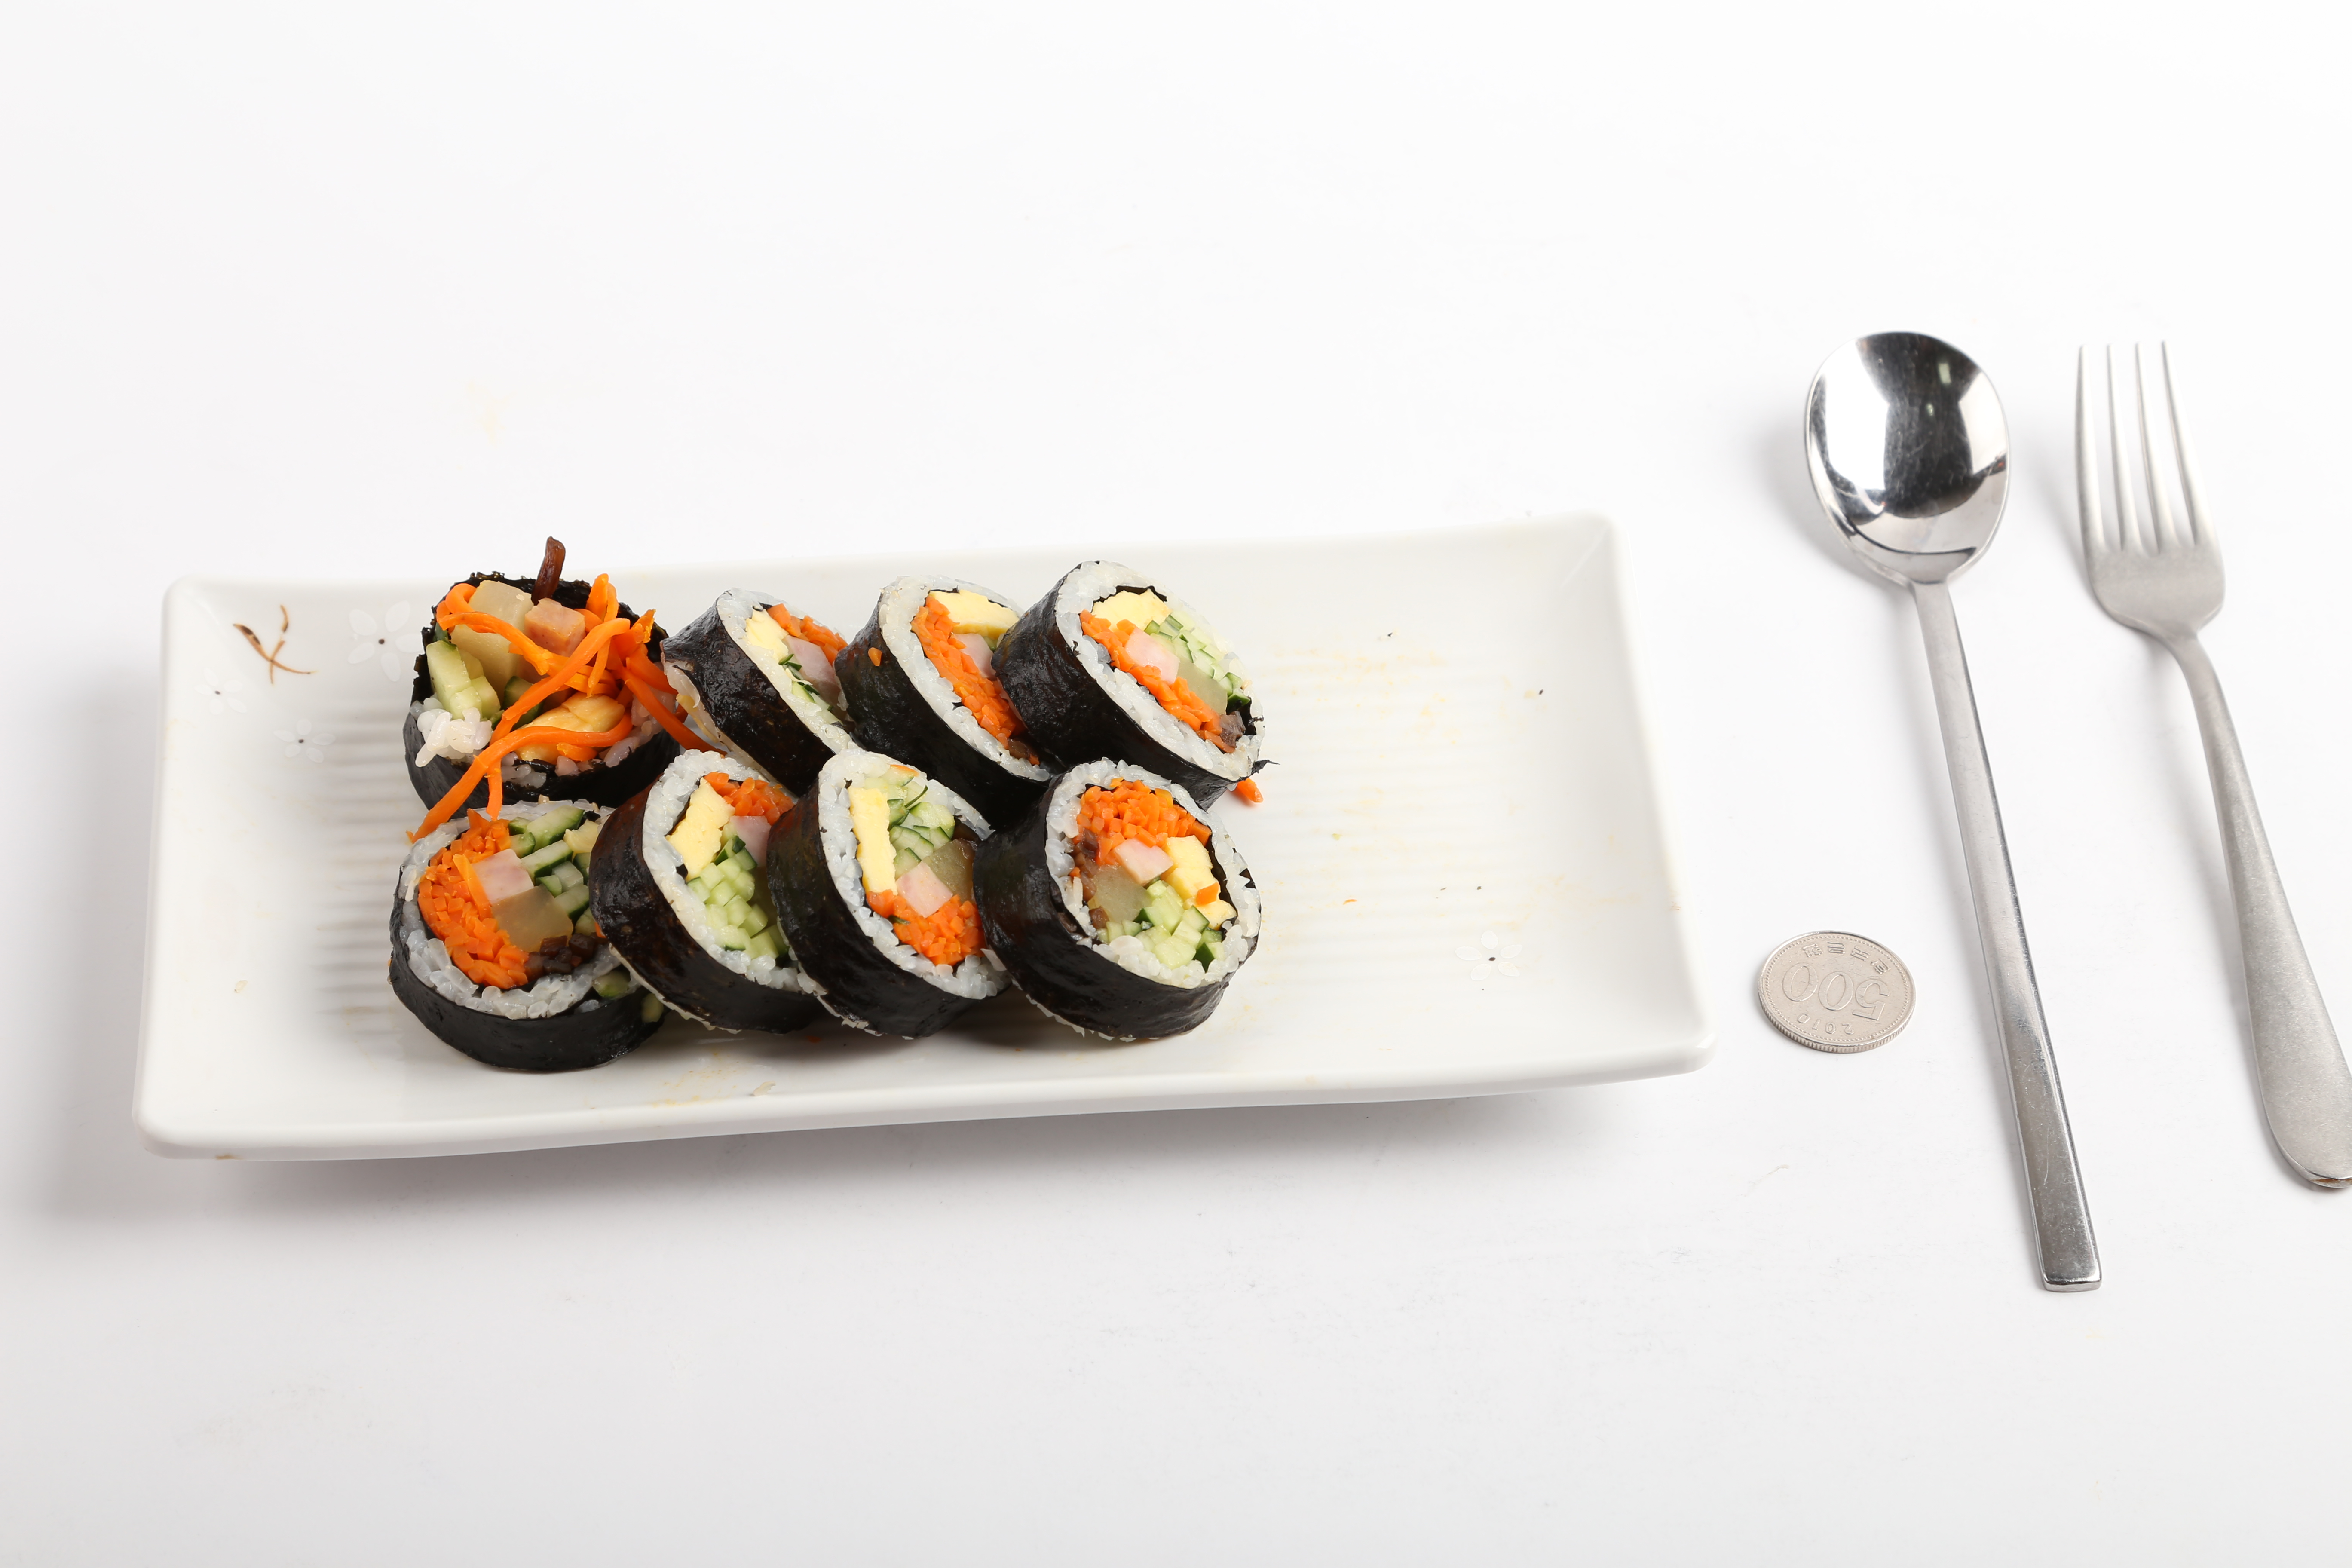dish: (122, 502, 1717, 1160)
ref_coin: (1746, 924, 1920, 1060)
ref_fork: (2067, 327, 2228, 709)
ref_spoon: (1801, 327, 2011, 639)
김밥: (385, 539, 1279, 1074)
